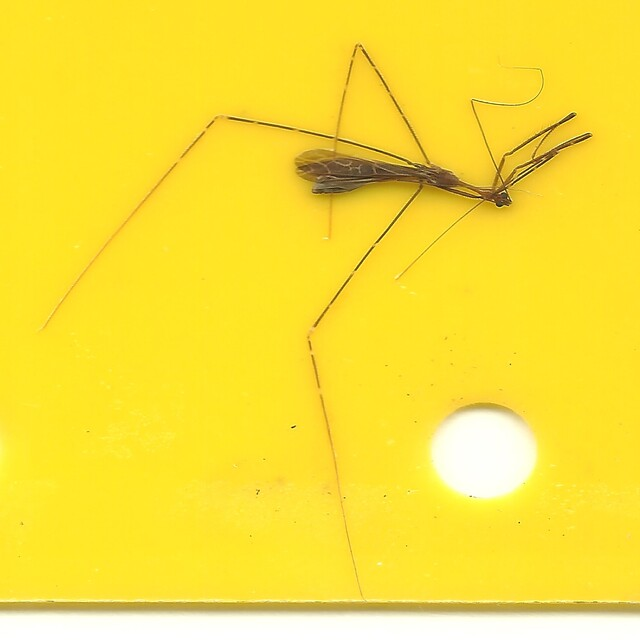Hemiptera: (45, 41, 595, 599)
